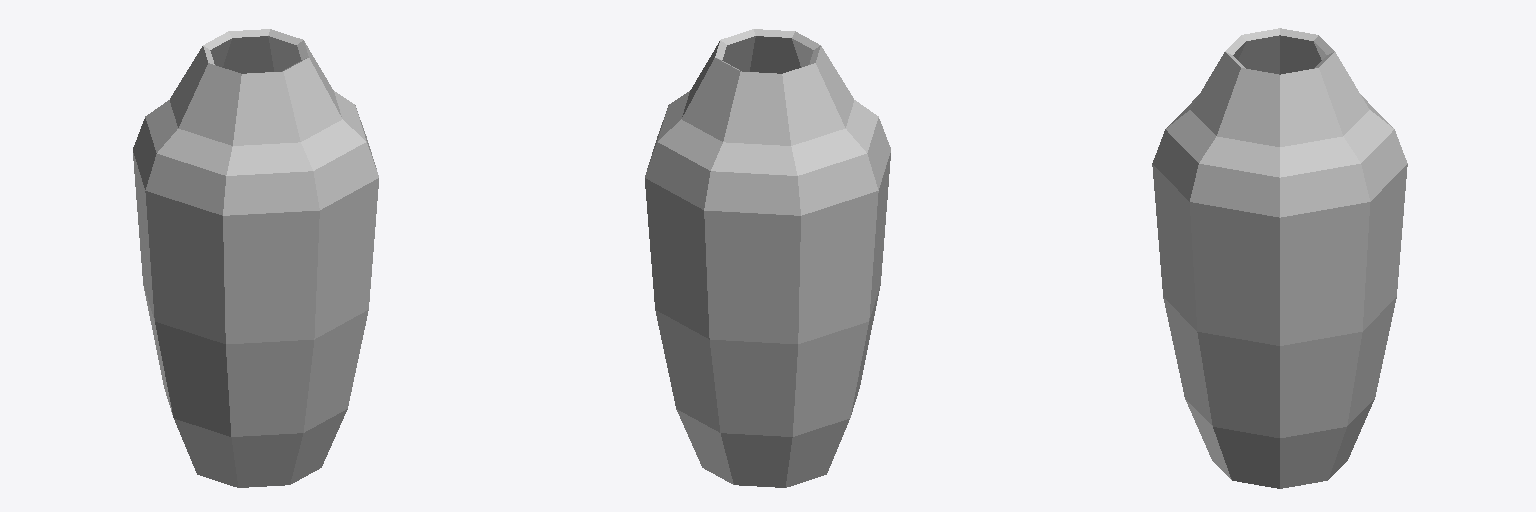
File: vase_3_001.obj
The picture shows the model from 3 angles: view 1: azimuth 30°, elevation 25°; view 2: azimuth 150°, elevation 25°; view 3: azimuth 270°, elevation 25°; orthographic projection.
Visible parts, largest first — view 1: mug_1.002_Plane.008; view 2: mug_1.002_Plane.008; view 3: mug_1.002_Plane.008.
Part boxes in pixels (x1,y1,x2,y2): mug_1.002_Plane.008: (133, 29, 378, 487); mug_1.002_Plane.008: (645, 29, 890, 487); mug_1.002_Plane.008: (1152, 28, 1407, 488).
Bounding box in the file's own units: 0.4205 × 0.7431 × 0.4205.